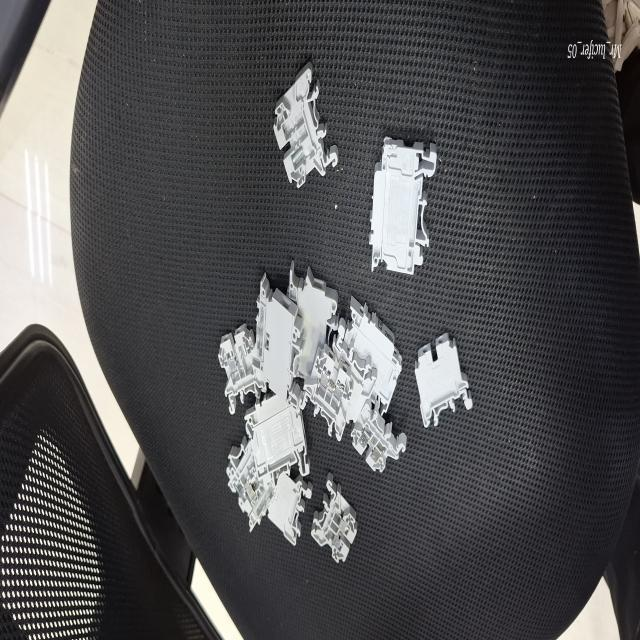Inverted: (411, 328, 476, 438)
Pass: (302, 341, 352, 443), (310, 470, 361, 566), (349, 400, 407, 476)
Reject: (269, 65, 341, 200), (213, 320, 266, 414)
